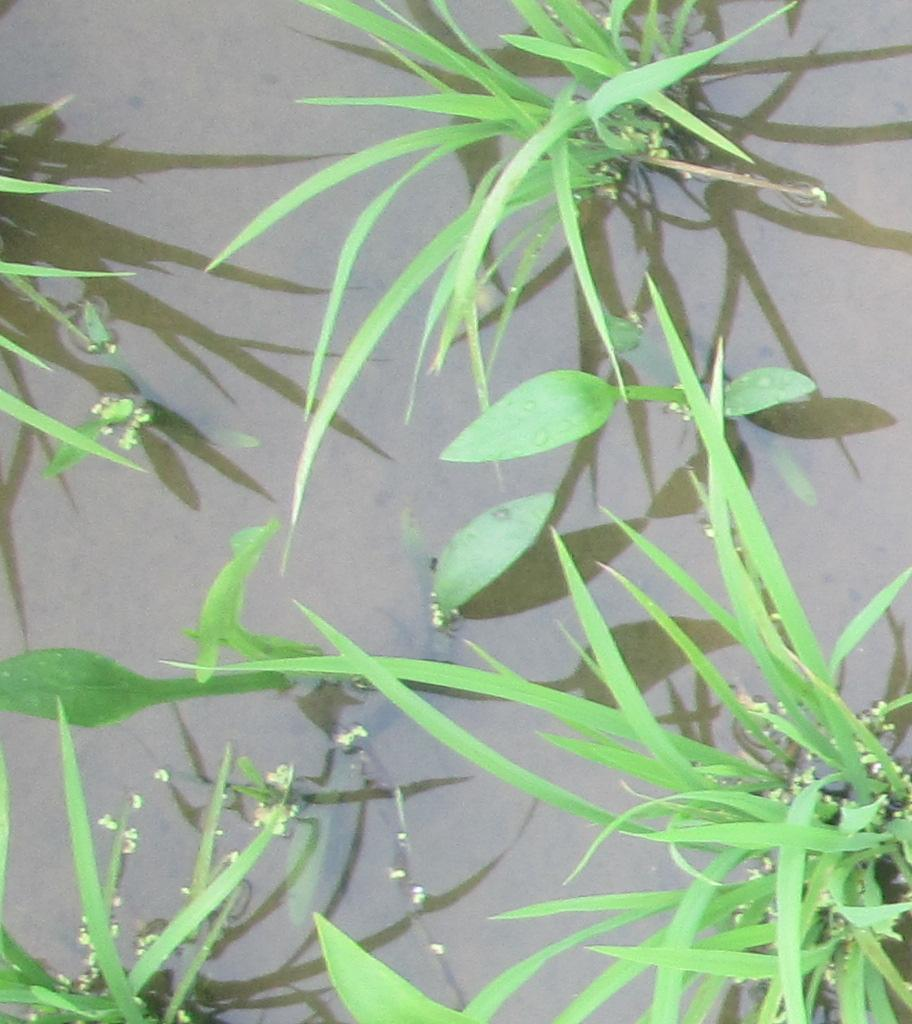Weed: (446, 363, 817, 471), (427, 489, 561, 625), (7, 646, 166, 735)
